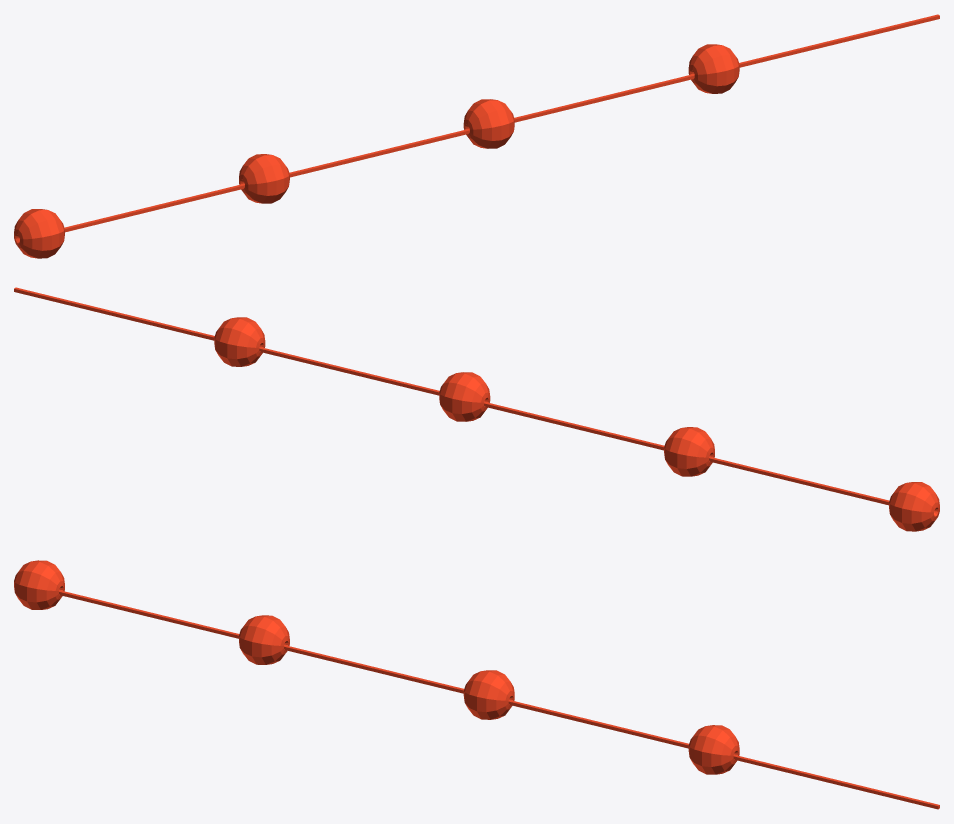
The model's file is SM_Buoy_Line_B_City.fbx.
3 views of the same model, one above another, from view 1: azimuth 30°, elevation 25°; view 2: azimuth 150°, elevation 25°; view 3: azimuth 330°, elevation 25° (orthographic).
Parts seen in each view (by area): view 1: SM_Buoy_Line_B_City; view 2: SM_Buoy_Line_B_City; view 3: SM_Buoy_Line_B_City.
Boxes of the visible parts, x1,y1,x2,y2 form: SM_Buoy_Line_B_City: (14, 14, 939, 258); SM_Buoy_Line_B_City: (14, 287, 939, 531); SM_Buoy_Line_B_City: (14, 560, 939, 809).
Size of the model in its own units: 10.24 by 0.4998 by 0.4753.
